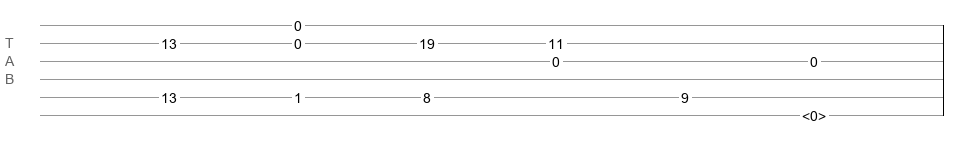0: (294, 36, 302, 46), (294, 18, 302, 28), (552, 54, 560, 64), (810, 54, 818, 64)
1: (294, 90, 302, 100)
11: (548, 36, 564, 46)
13: (161, 36, 177, 46), (161, 90, 177, 100)
19: (419, 36, 435, 46)
8: (423, 90, 431, 100)
9: (681, 90, 689, 100)
harmonic: (802, 108, 826, 118)
